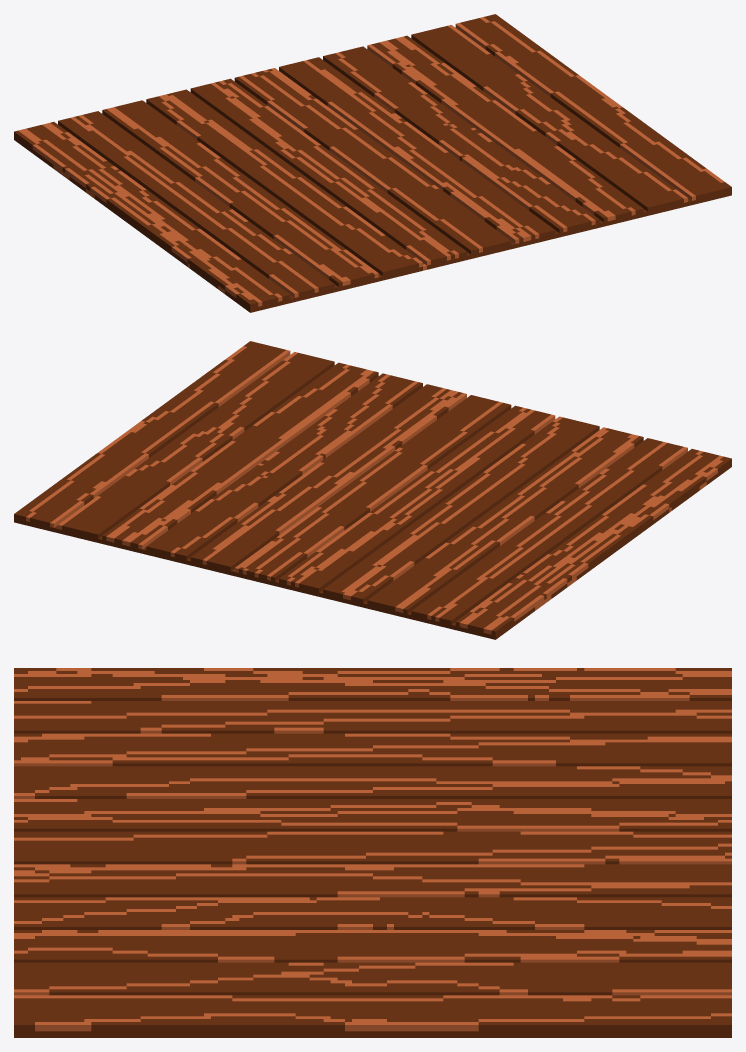
Rendered from floor.obj.
3 views of the same model, one above another, from view 1: azimuth 30°, elevation 25°; view 2: azimuth 150°, elevation 25°; view 3: azimuth 270°, elevation 25° (orthographic). The views are drawn at different scales.
Visible parts, largest first — view 1: floor; view 2: floor; view 3: floor.
Part boxes in pixels (bbox=[...]): floor: bbox=[14, 14, 731, 312]; floor: bbox=[14, 341, 731, 639]; floor: bbox=[14, 668, 731, 1037].
Bounding box in the file's own units: 120 × 2 × 102.
Materials: 1 (1 with a texture image).
